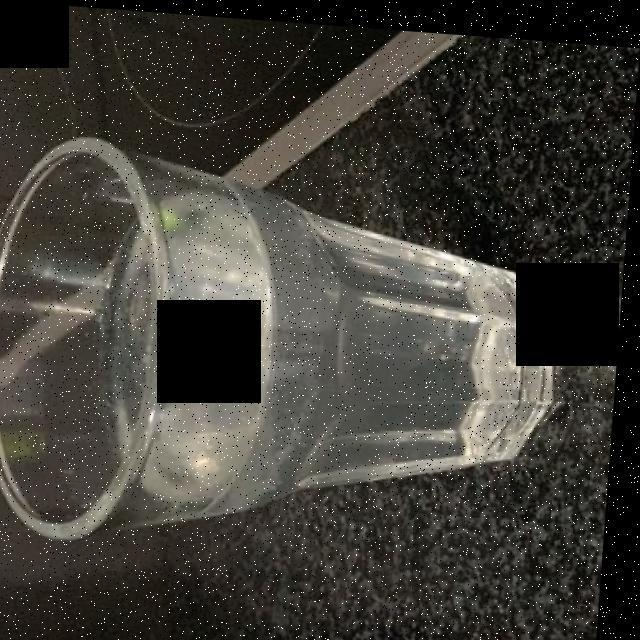drink: (98, 182, 546, 501)
